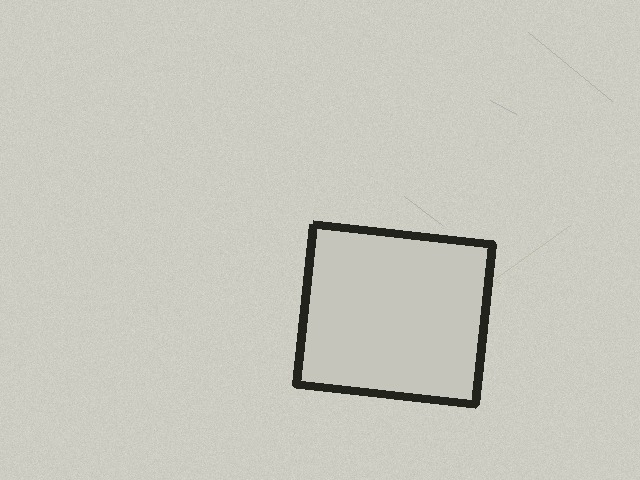parking_area: (296, 224, 492, 404)
